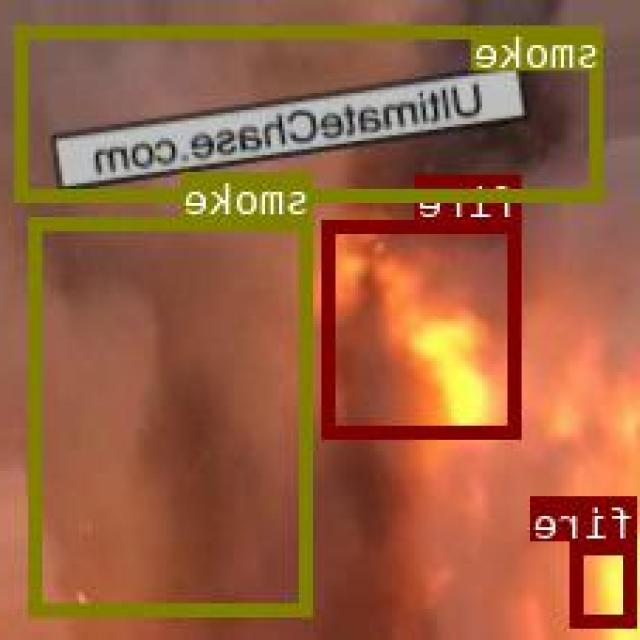fire: (325, 218, 524, 434), (574, 539, 638, 625)
smoke: (32, 216, 314, 612), (18, 25, 605, 198)
